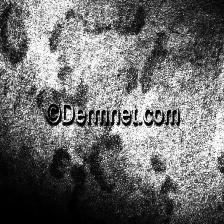Toxin: (52, 4, 145, 53), (53, 144, 113, 218), (152, 152, 180, 222), (40, 68, 92, 100), (0, 6, 29, 63), (122, 58, 159, 94)
